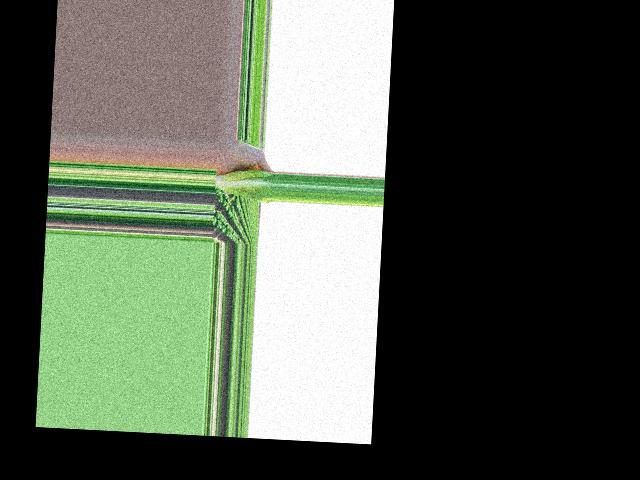lettuce: (213, 168, 272, 202)
